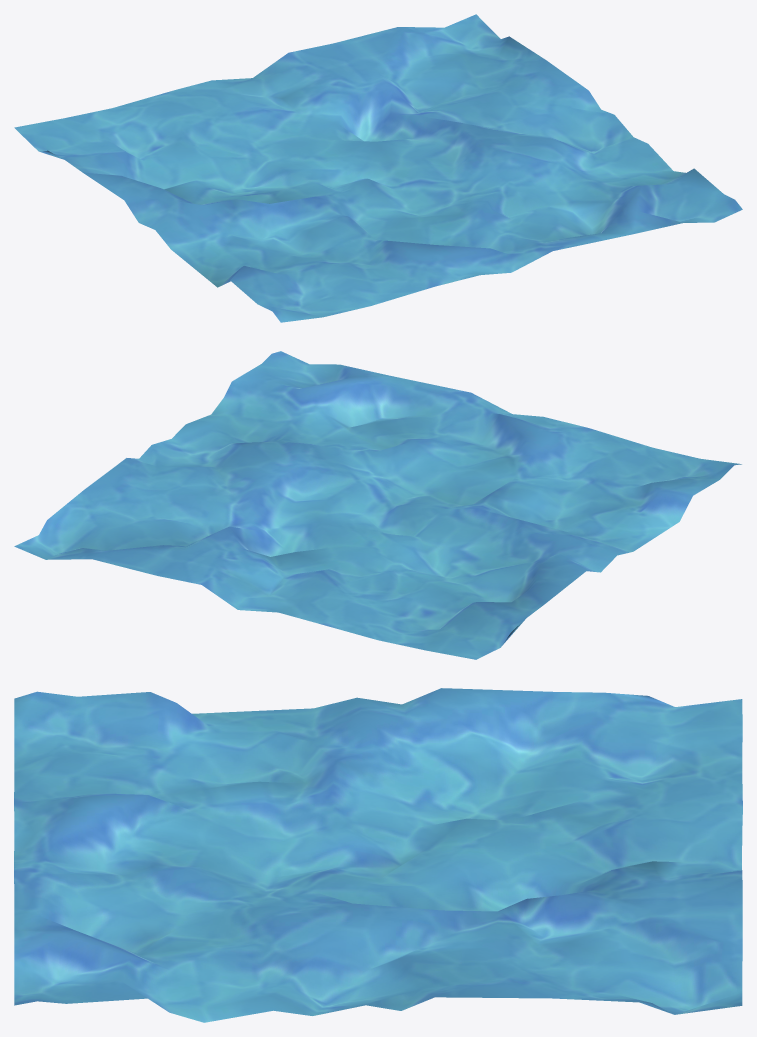
The model's file is Ground_Ice.fbx.
3 views of the same model, one above another, from view 1: azimuth 30°, elevation 25°; view 2: azimuth 150°, elevation 25°; view 3: azimuth 270°, elevation 25° (orthographic). The views are drawn at different scales.
Parts seen in each view (by area): view 1: Plane; view 2: Plane; view 3: Plane.
Boxes of the visible parts, x1,y1,x2,y2 form: Plane: (14, 14, 742, 322); Plane: (14, 351, 741, 659); Plane: (14, 688, 742, 1022).
Size of the model in its own units: 200 by 16.37 by 200.
